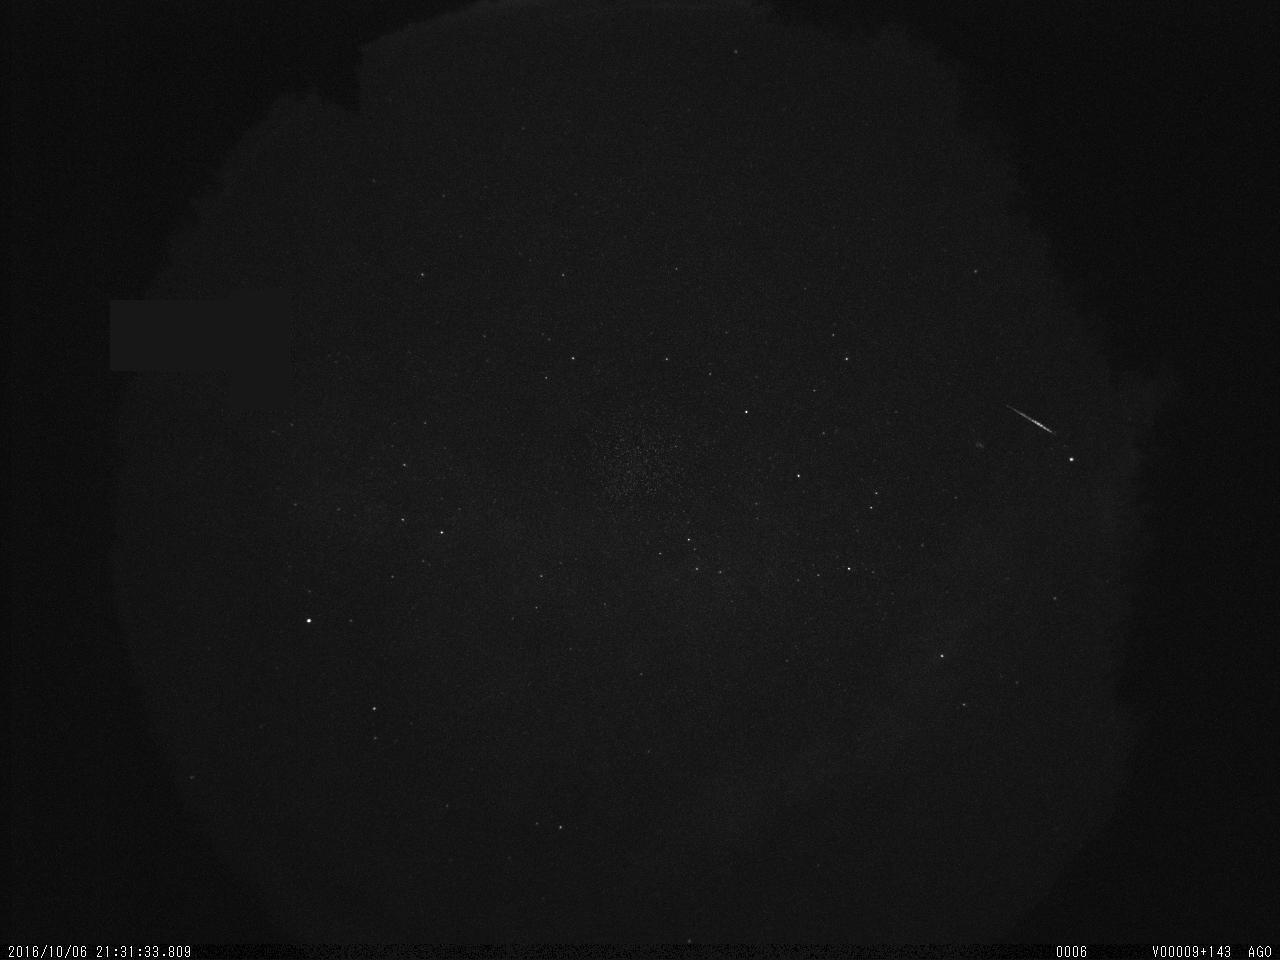meteor: (1002, 390, 1066, 444)
